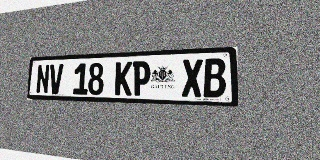1: (73, 63, 89, 95)
8: (88, 62, 104, 95)
B: (203, 58, 226, 98)
K: (115, 61, 132, 96)
N: (36, 64, 50, 94)
P: (132, 61, 151, 96)
V: (49, 64, 63, 94)
X: (182, 59, 203, 97)
